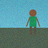person: (26, 9, 40, 35)
